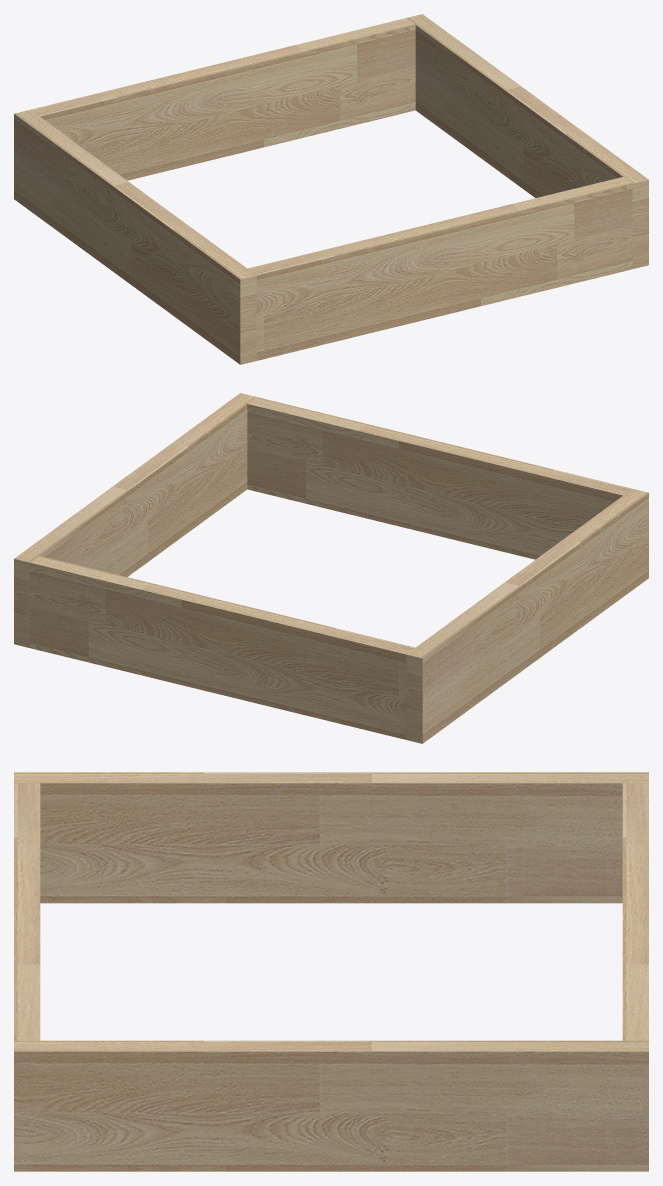
The picture shows the model from 3 angles, top to bottom: view 1: azimuth 30°, elevation 25°; view 2: azimuth 150°, elevation 25°; view 3: azimuth 270°, elevation 25°; orthographic projection. The views are drawn at different scales.
Visible parts, largest first — view 1: Sokkel front_back.004; view 2: Sokkel front_back.004; view 3: Sokkel front_back.004.
Part boxes in pixels (x1,y1,x2,y2): Sokkel front_back.004: (14,14,648,364); Sokkel front_back.004: (14,393,648,743); Sokkel front_back.004: (14,772,648,1171).
Bounding box in the file's own units: 0.5 × 0.1 × 0.48.
1 material, 1 textured.
